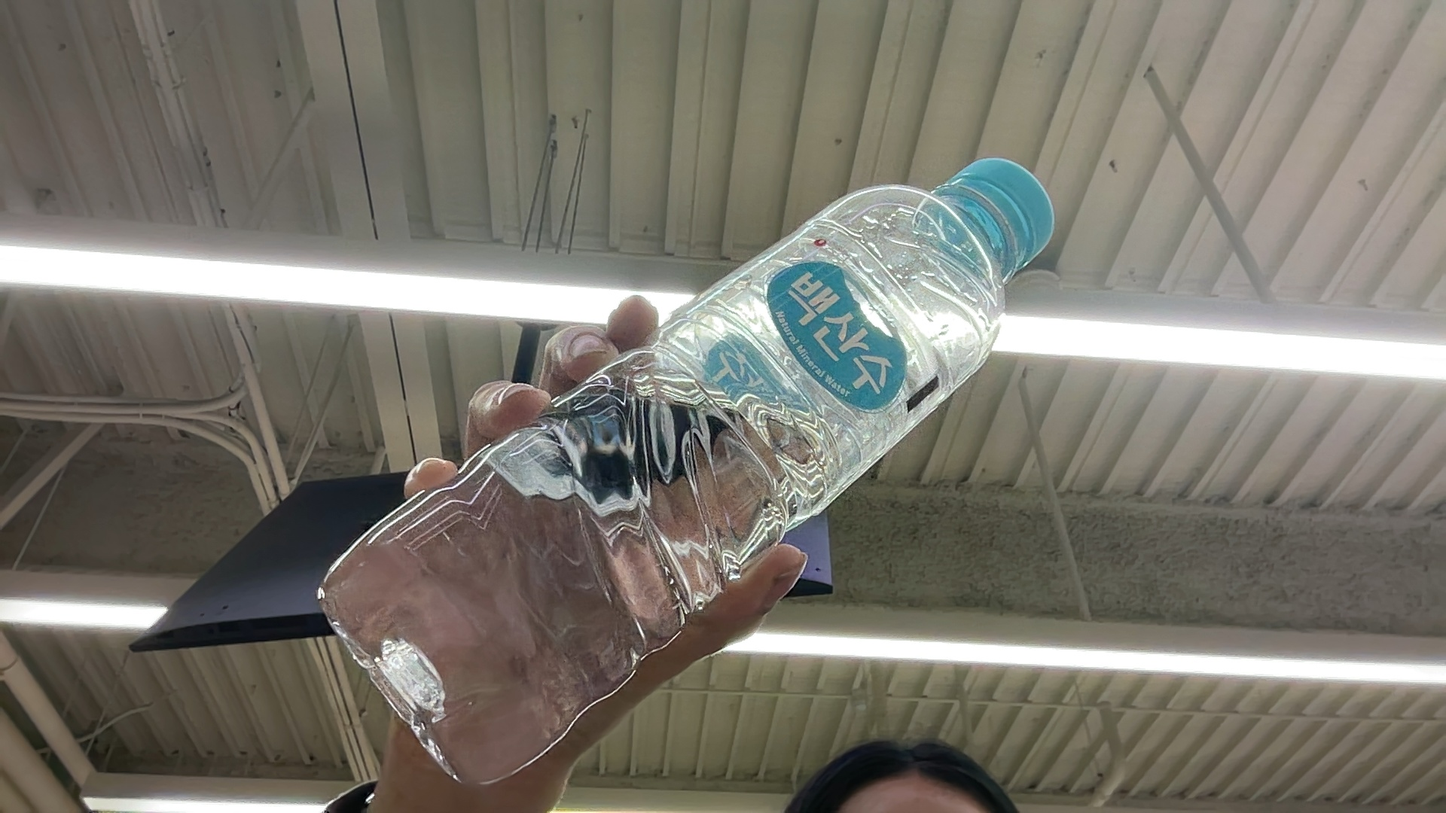Plastic: (297, 136, 1118, 765)
